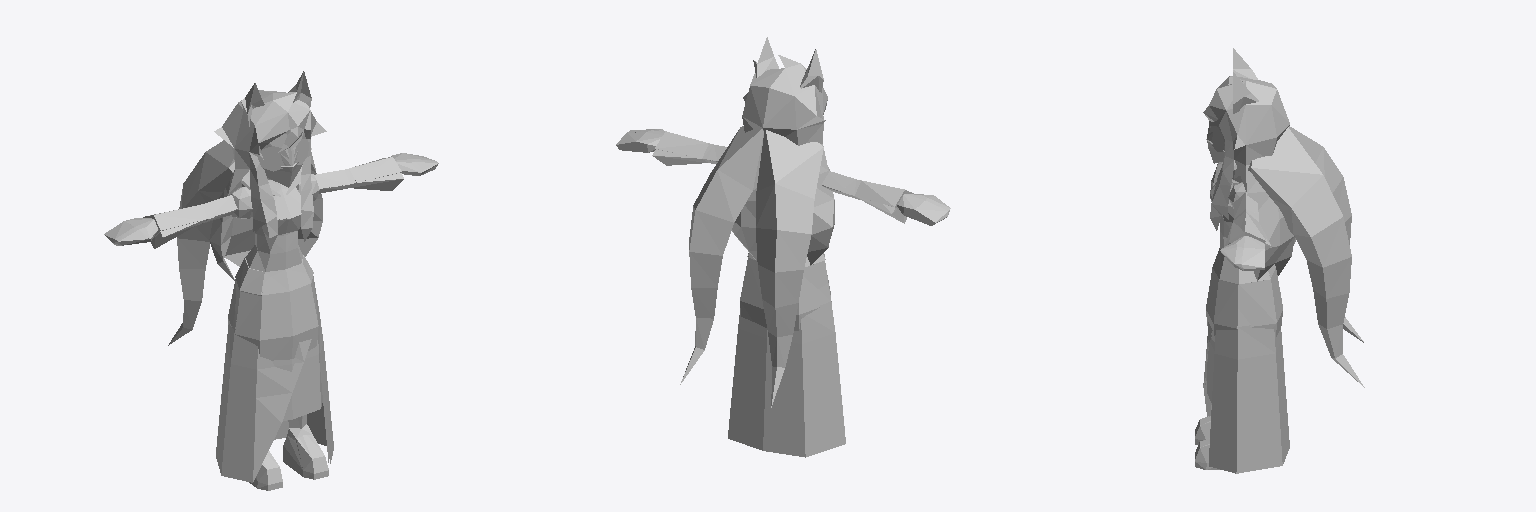
Rendered from Jade_Harley.obj.
The picture shows the model from 3 angles: view 1: azimuth 30°, elevation 25°; view 2: azimuth 150°, elevation 25°; view 3: azimuth 270°, elevation 25°; orthographic projection.
Parts seen in each view (by area): view 1: jade_bot, 3am, dogtier, jade_physics, casual, hood, dog_ears; view 2: hood, 3am, jade_bot, jade_physics, dogtier, dog_ears; view 3: hood, 3am, jade_bot, dogtier, jade_physics, casual, dog_ears.
Part boxes in pixels (x1,y1,x2,y2): jade_bot: (106, 90, 438, 490); 3am: (216, 311, 333, 482); dogtier: (151, 157, 403, 360); jade_physics: (104, 131, 437, 490); casual: (162, 169, 396, 466); hood: (168, 140, 311, 345); dog_ears: (241, 71, 311, 126); hood: (680, 126, 823, 407); 3am: (708, 143, 860, 457); jade_bot: (616, 55, 950, 264); jade_physics: (616, 129, 949, 266); dogtier: (652, 131, 906, 330); dog_ears: (753, 37, 823, 92); hood: (1232, 126, 1364, 387); 3am: (1203, 212, 1289, 473); jade_bot: (1200, 76, 1295, 462); dogtier: (1206, 197, 1282, 341); jade_physics: (1195, 120, 1269, 469); casual: (1202, 181, 1258, 445); dog_ears: (1233, 48, 1258, 113).
Bounding box in the file's own units: 59.48 × 69.21 × 27.21.